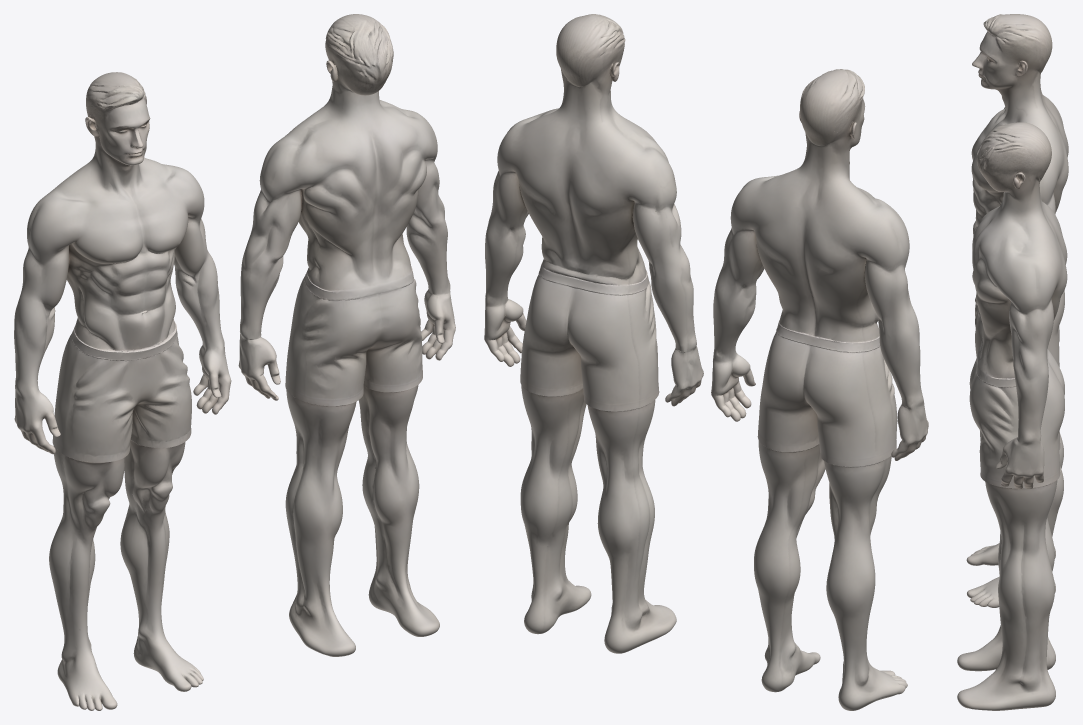
File: fitcheck-sculpture-rodin-v1.glb
3 views of the same model, side by side, from view 1: azimuth 30°, elevation 25°; view 2: azimuth 150°, elevation 25°; view 3: azimuth 270°, elevation 25° (orthographic). The views are drawn at different scales.
Visible parts, largest first — view 1: model; view 2: model; view 3: model.
Part boxes in pixels (box(x1,y1,x2,y2)): model: box(14, 14, 455, 710); model: box(484, 14, 928, 710); model: box(957, 14, 1068, 710).
Size of the model in its own units: 1.41 by 1.9 by 0.3407.
1 material, 1 textured.
